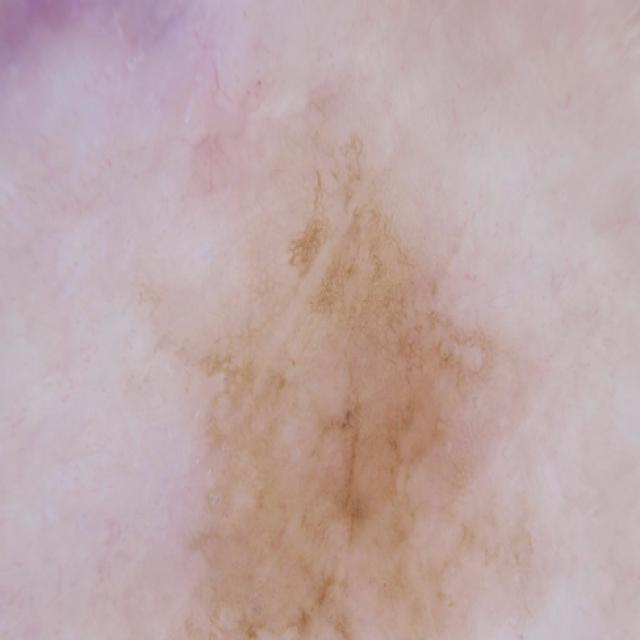Keratosis: (159, 152, 572, 640)
